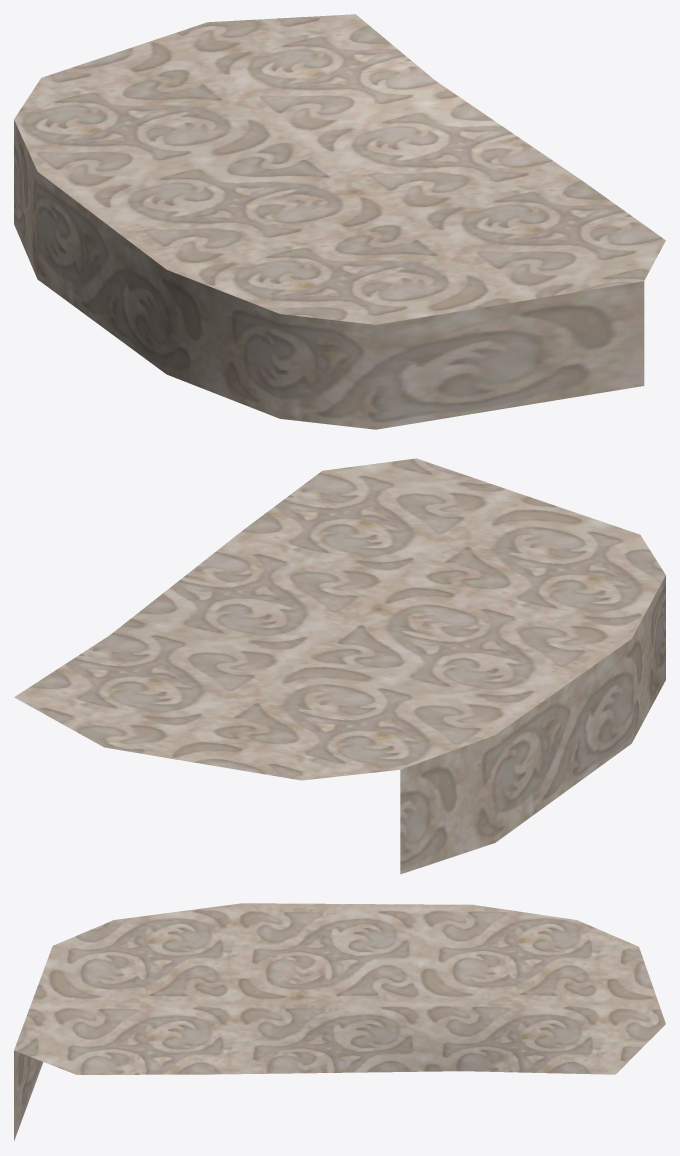
File: EKH_GROTTO_PS_GR_OBJECT07.fbx
3 renders of one model, top to bottom at view 1: azimuth 30°, elevation 25°; view 2: azimuth 150°, elevation 25°; view 3: azimuth 270°, elevation 25°, orthographic. The views are drawn at different scales.
Parts seen in each view (by area): view 1: EKH_GROTTO_PS_GR_OBJECT07; view 2: EKH_GROTTO_PS_GR_OBJECT07; view 3: EKH_GROTTO_PS_GR_OBJECT07.
Part boxes in pixels (left/top/right/bottom): EKH_GROTTO_PS_GR_OBJECT07: left=14, top=14, right=665, bottom=429; EKH_GROTTO_PS_GR_OBJECT07: left=14, top=458, right=665, bottom=874; EKH_GROTTO_PS_GR_OBJECT07: left=14, top=903, right=665, bottom=1140.
Size of the model in its own units: 40679 by 10369 by 65224.
2 materials, 2 textured.
